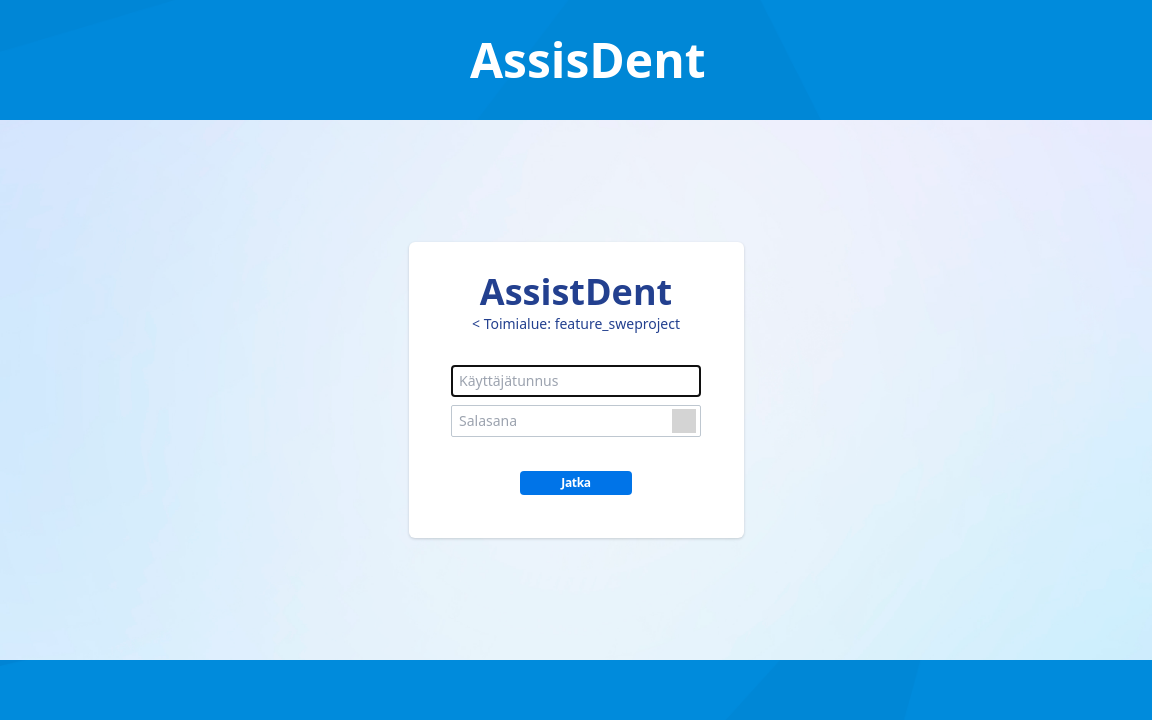
Test: Field Choice › should try to do login after input
In the field with placeholder "Käyttäjätunnus": {"x": 576, "y": 381} [451, 365, 701, 397], type "test"
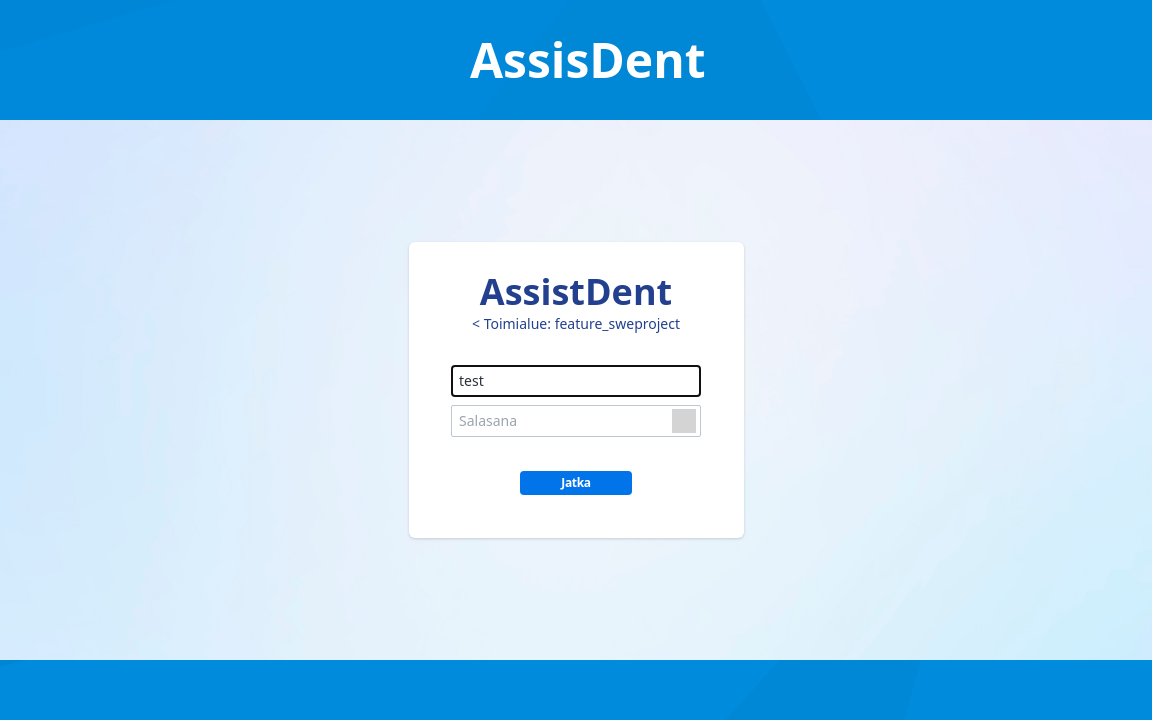
In the password field with placeholder "Salasana": {"x": 576, "y": 421} [451, 405, 701, 437], type "test"
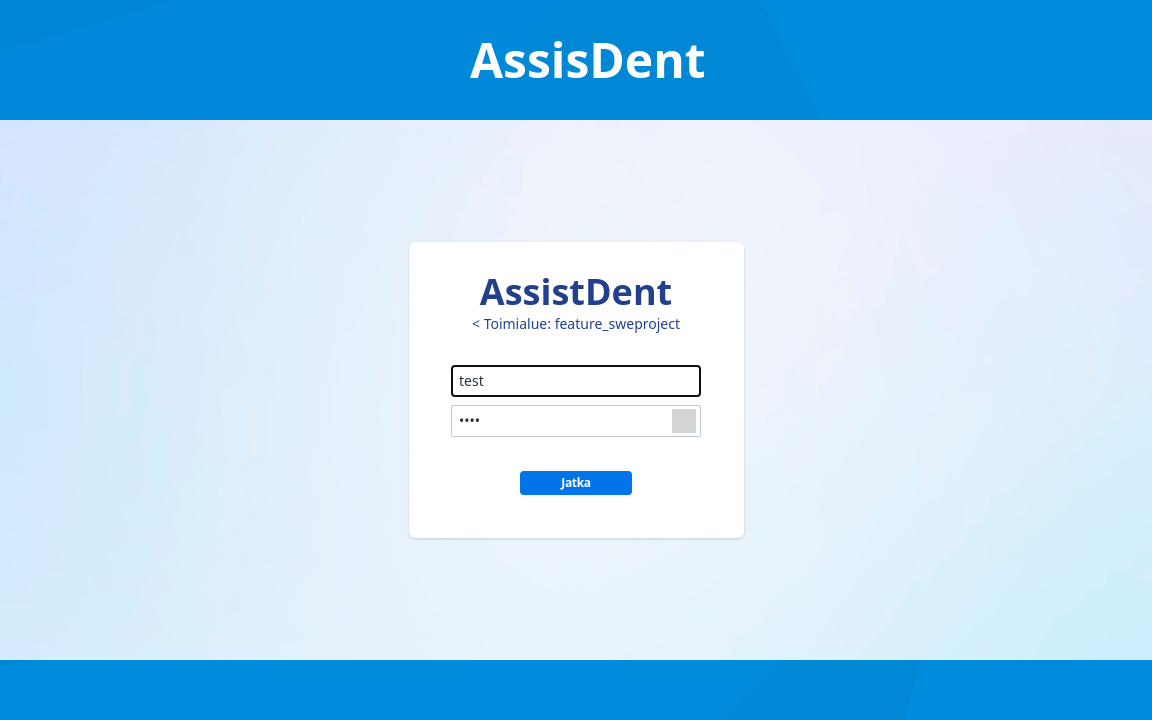
Click the button "Jatka": {"x": 576, "y": 483} [520, 471, 632, 495]
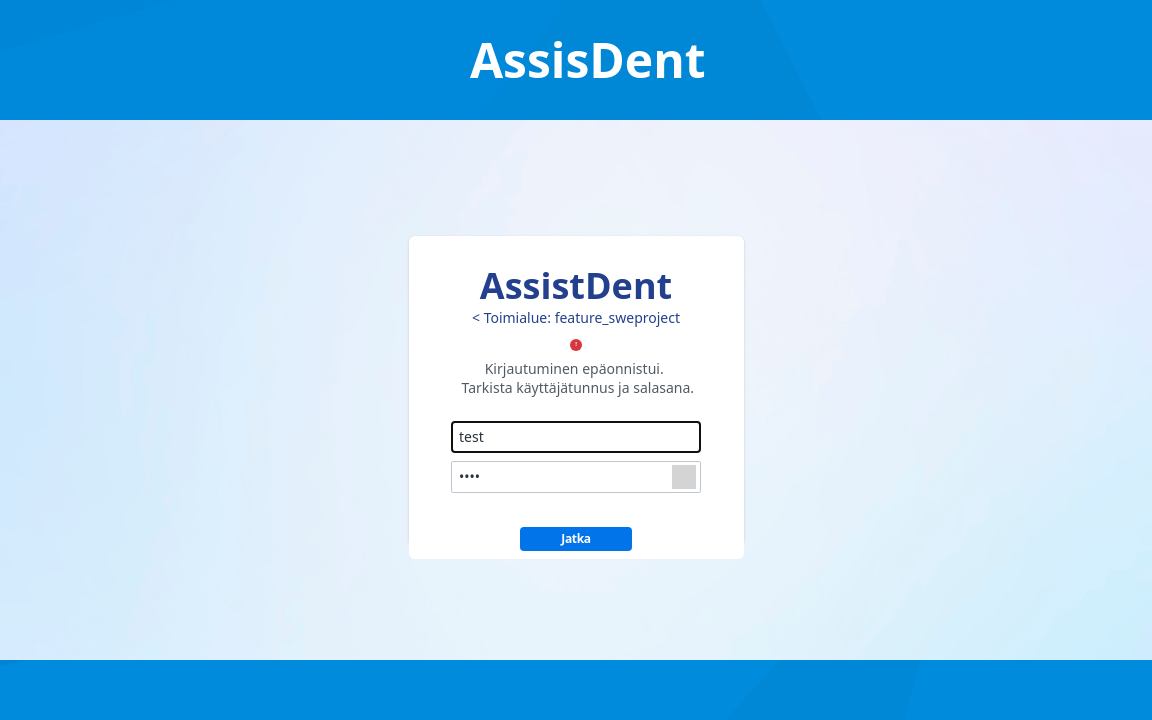
Now the text "Doing login..." is shown, box [458, 358, 694, 396]
